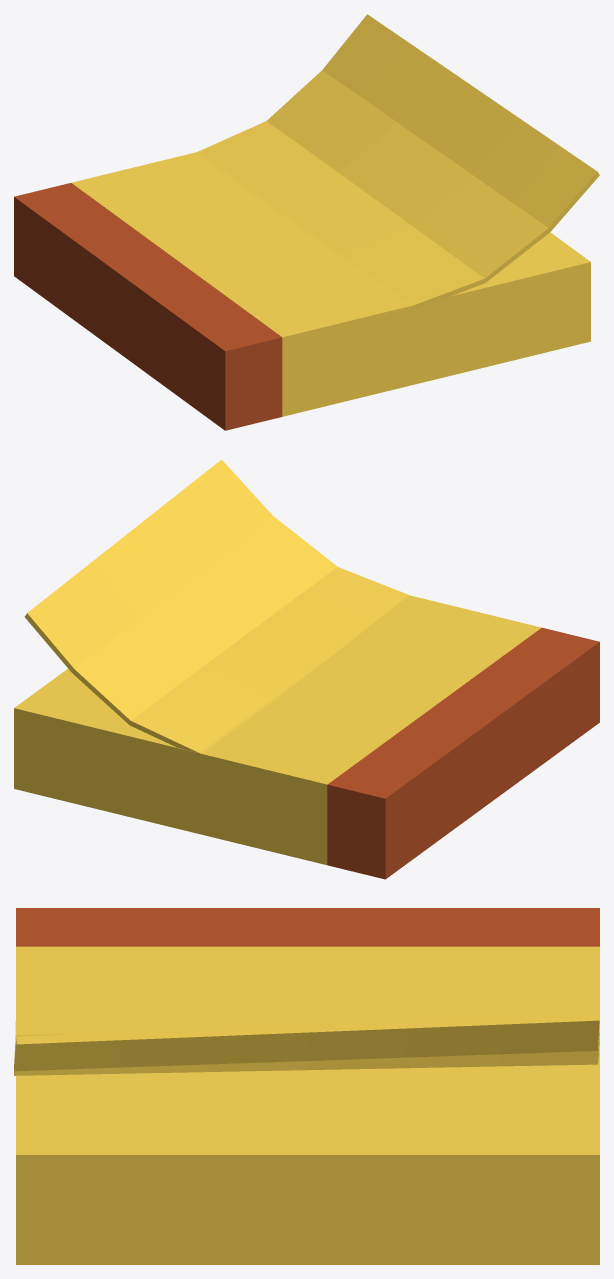
File: notes_bloc1.fbx
3 renders of one model, top to bottom at view 1: azimuth 30°, elevation 25°; view 2: azimuth 150°, elevation 25°; view 3: azimuth 270°, elevation 25°, orthographic. The views are drawn at different scales.
Parts seen in each view (by area): view 1: Cube.007; view 2: Cube.007; view 3: Cube.007.
Boxes of the visible parts, x1,y1,x2,y2 form: Cube.007: (14,14,599,430); Cube.007: (14,459,599,879); Cube.007: (14,908,599,1264).
Size of the model in its own units: 15.78 by 7.08 by 15.45.
